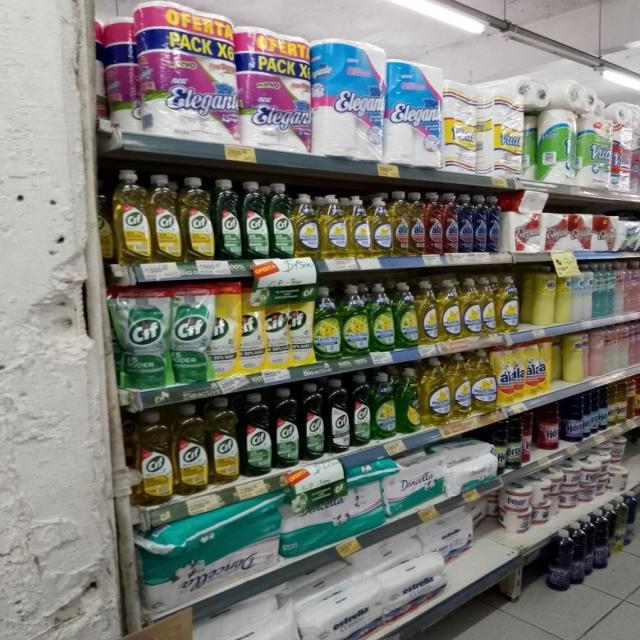ala_conc_amarillo: (391, 190, 409, 256), (409, 191, 425, 255)
ala_conc_azul: (459, 193, 474, 253), (488, 195, 502, 253), (474, 194, 487, 253)
ala_conc_rojo: (443, 192, 459, 254), (426, 192, 442, 254)
cif_conc_bot_amarilla: (113, 169, 149, 265), (136, 410, 172, 502), (175, 403, 208, 494), (181, 176, 213, 262), (209, 396, 239, 484), (150, 174, 180, 262)
cif_conc_botella_verde: (241, 392, 272, 476), (214, 178, 241, 260), (273, 386, 299, 468), (242, 180, 268, 260), (300, 382, 324, 460), (268, 182, 292, 259), (326, 377, 348, 453), (372, 371, 396, 440), (350, 373, 371, 445)
cif_conc_sachet_amarillo: (211, 284, 238, 380), (239, 285, 264, 376), (265, 290, 290, 370), (290, 288, 313, 367)
cif_conc_sachet_verde: (120, 287, 168, 390), (171, 285, 209, 384)
magistral_con_amarillo: (422, 357, 449, 426), (319, 194, 346, 258), (293, 193, 319, 259), (396, 281, 418, 349), (438, 278, 461, 341), (348, 195, 370, 258), (450, 353, 471, 418), (498, 275, 520, 333), (419, 280, 438, 344), (371, 194, 390, 257), (462, 276, 481, 338), (481, 276, 496, 335)
magistral_con_verde: (314, 284, 341, 360), (342, 283, 369, 356), (370, 282, 395, 352)
